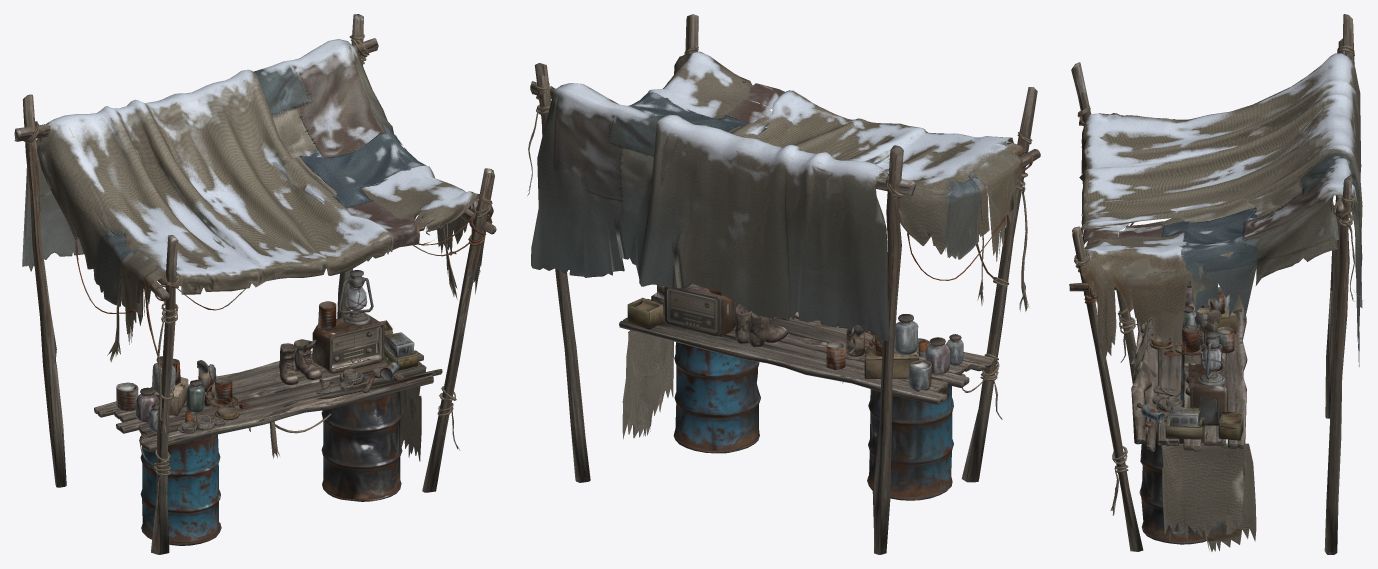
Rendered from jt_market_stall.glb.
3 renders of one model, left to right at view 1: azimuth 30°, elevation 25°; view 2: azimuth 150°, elevation 25°; view 3: azimuth 270°, elevation 25°, orthographic. The views are drawn at different scales.
Bounding box in the file's own units: 0.9155 × 0.9546 × 0.6509.
1 material, 1 textured.
